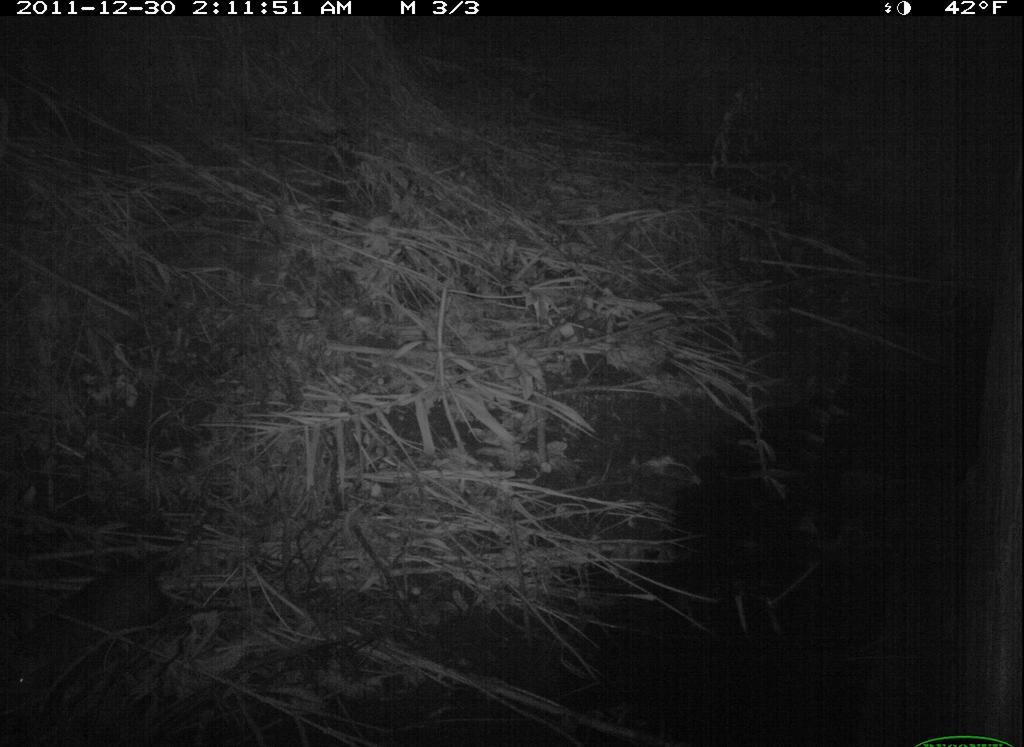opossum: (7, 545, 205, 720)
